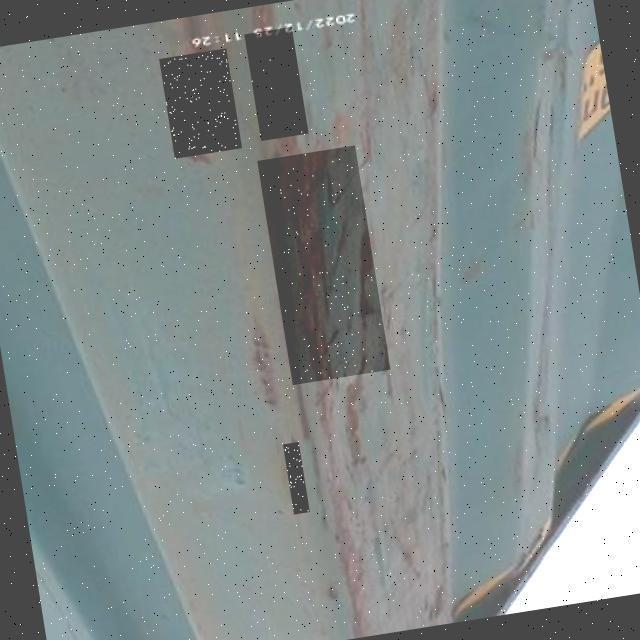rust: (259, 146, 392, 386), (246, 28, 310, 142), (176, 50, 230, 159), (284, 443, 311, 516)
